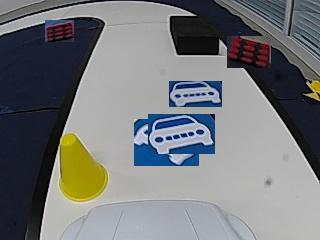block: (170, 17, 219, 56)
cone: (60, 133, 109, 202)
